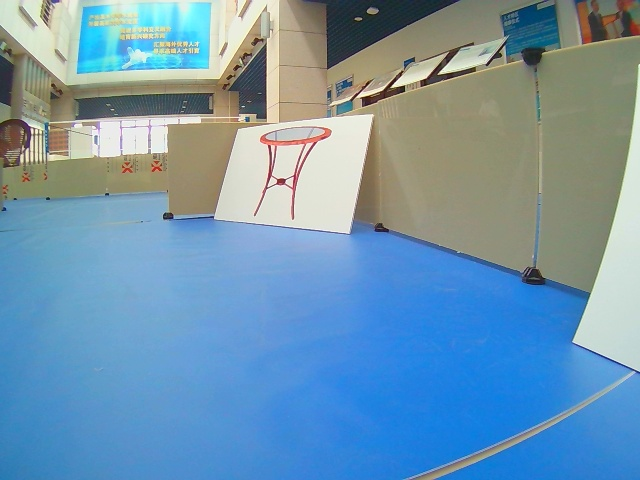table: (212, 116, 377, 237)
